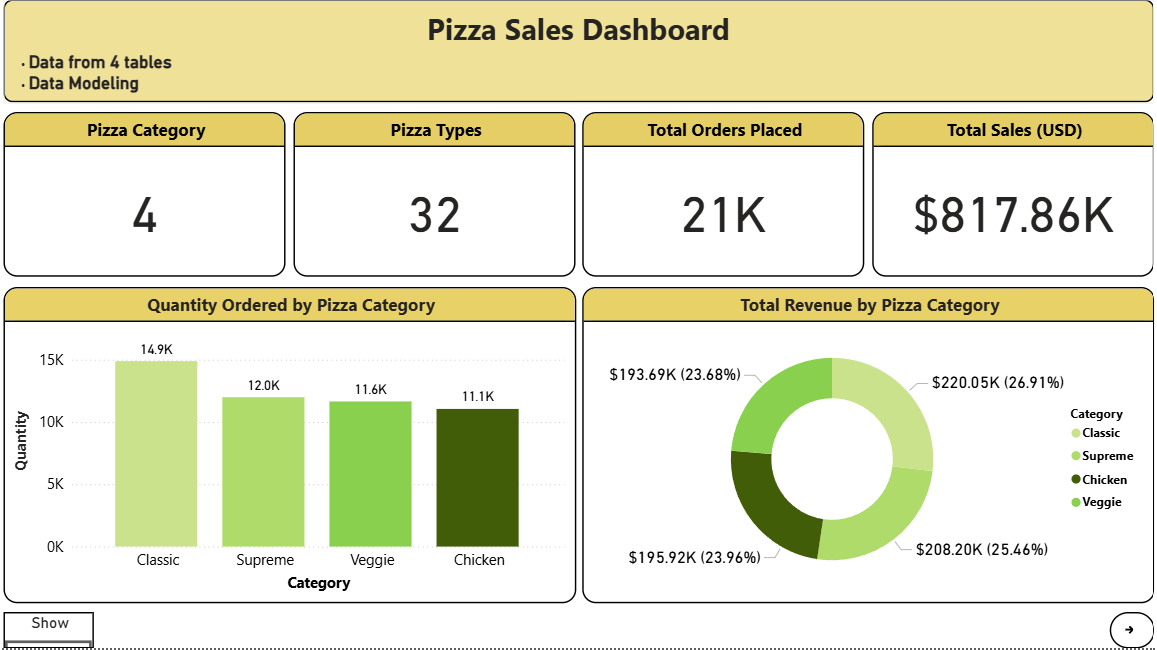

The dashboard page shown, as its layout file describes it:
{"tool":"powerbi","page":{"name":"Overview","canvas":[1280,720],"ordinal":0},"visuals":[{"type":"card","title":"Total Orders Placed","fields":{"Values":["orders.total_orders_placed"]},"box":[643.6,132,309.9,180.9],"z":0},{"type":"textbox","box":[8.9,8.9,1263.4,112.7],"z":1000},{"type":"card","title":"Total Sales (USD)","fields":{"Values":["pizzas.total_sales(USD)"]},"box":[962.4,132,309.9,180.9],"z":2000},{"type":"card","title":"Pizza Category","fields":{"Values":["pizza_types.pizza_category"]},"box":[8.9,132,309.9,180.9],"z":3000},{"type":"card","title":"Pizza Types","fields":{"Values":["pizza_types.pizza_types"]},"box":[326.2,132,309.9,180.9],"z":4000},{"type":"actionButton","title":"Show","box":[8.9,680.6,99.4,40],"z":6000},{"type":"columnChart","title":"Quantity Ordered by Pizza Category","fields":{"Category":["pizza_types.category"],"Y":["Sum(order_details.quantity)"]},"box":[8.2,323.8,628.5,347.2],"z":8000},{"type":"donutChart","title":"Total Revenue by Pizza Category","fields":{"Category":["pizza_types.category"],"Y":["pizzas.total_sales(USD)"]},"box":[643.6,323.8,628.5,347.2],"z":9000},{"type":"actionButton","box":[1222.6,680.6,49.4,39.8],"z":10000}]}

Visuals, with their boxes in screenshot pixels (x1, y1, x2, y2), scaled from the page's 1280x720 canvas onto the 1157x650 screenshot:
"Total Orders Placed" card: (582, 119, 862, 282)
textbox: (8, 8, 1150, 110)
"Total Sales (USD)" card: (870, 119, 1150, 282)
"Pizza Category" card: (8, 119, 288, 282)
"Pizza Types" card: (295, 119, 575, 282)
"Show" actionButton: (8, 614, 98, 649)
"Quantity Ordered by Pizza Category" columnChart: (7, 292, 576, 606)
"Total Revenue by Pizza Category" donutChart: (582, 292, 1150, 606)
actionButton: (1105, 614, 1150, 649)
